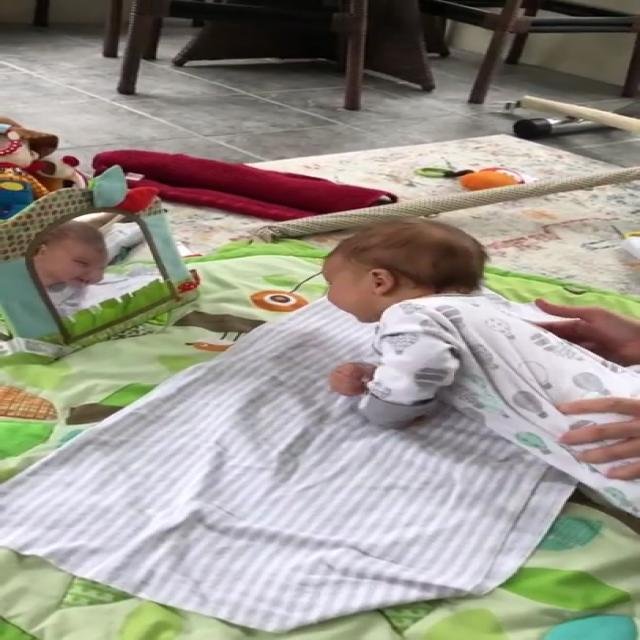baby: (304, 220, 640, 518)
